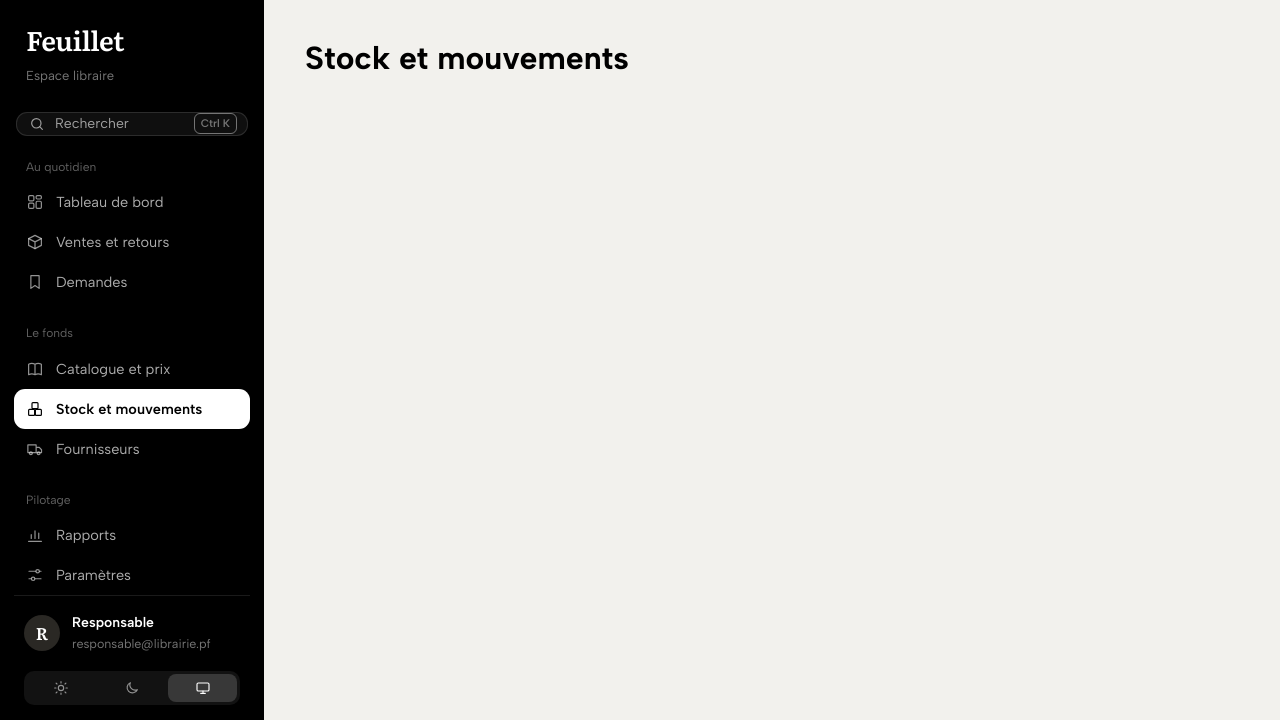
Scenario: cadre de l espace responsable › ramène au tableau de bord par le logo et à la boutique par son lien, sans déconnecter
This screenshot has width=1280, height=720.
Click the link "Feuillet" at (75, 40), box [26,26,124,53]
(page scrolled)
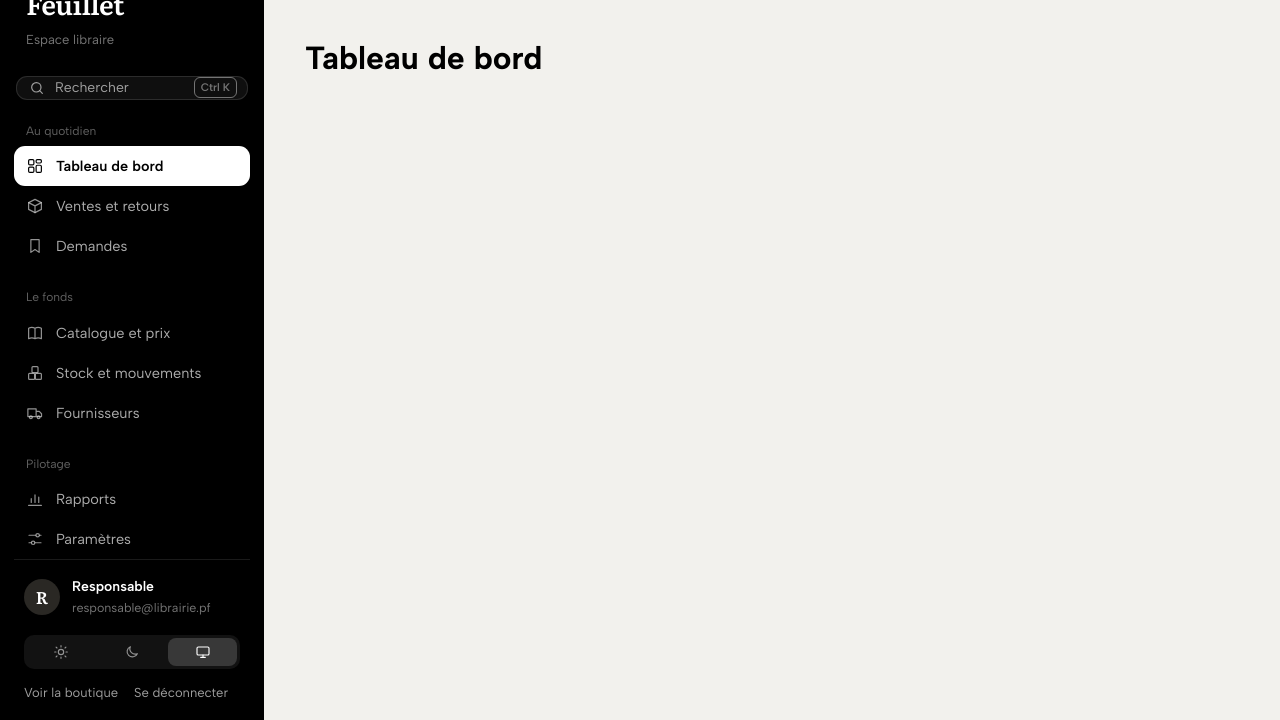
Expected: the heading "Tableau de bord" is shown, [305,39,542,77]
Click the link "Voir la boutique" at (71, 694), box [24,684,118,704]
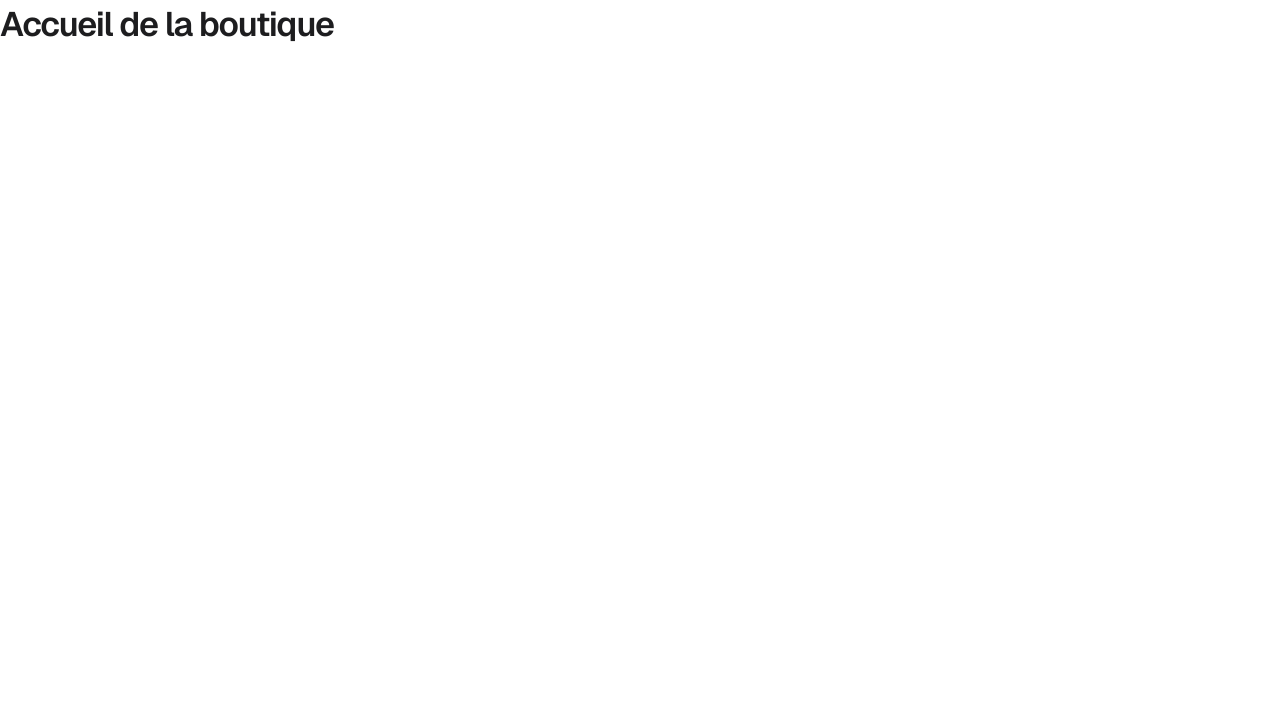
Expected: the heading "Accueil de la boutique" is shown, [0,2,334,46]
